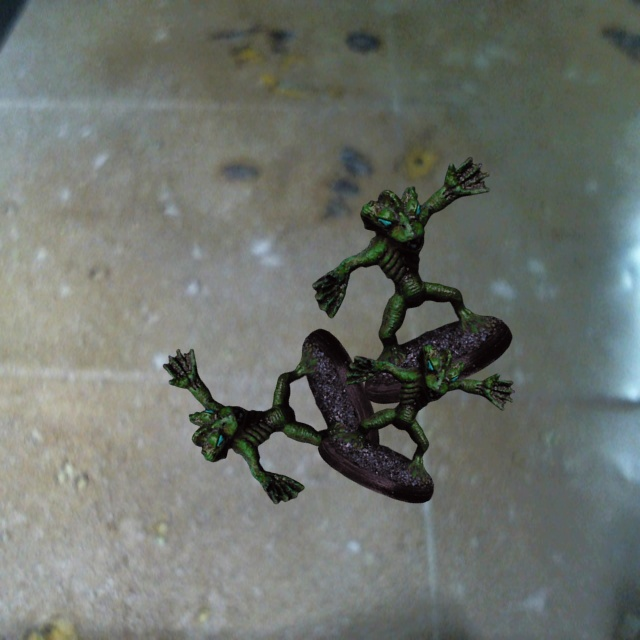pieza_juego: (312, 157, 512, 403), (163, 329, 379, 503), (318, 344, 514, 503)
